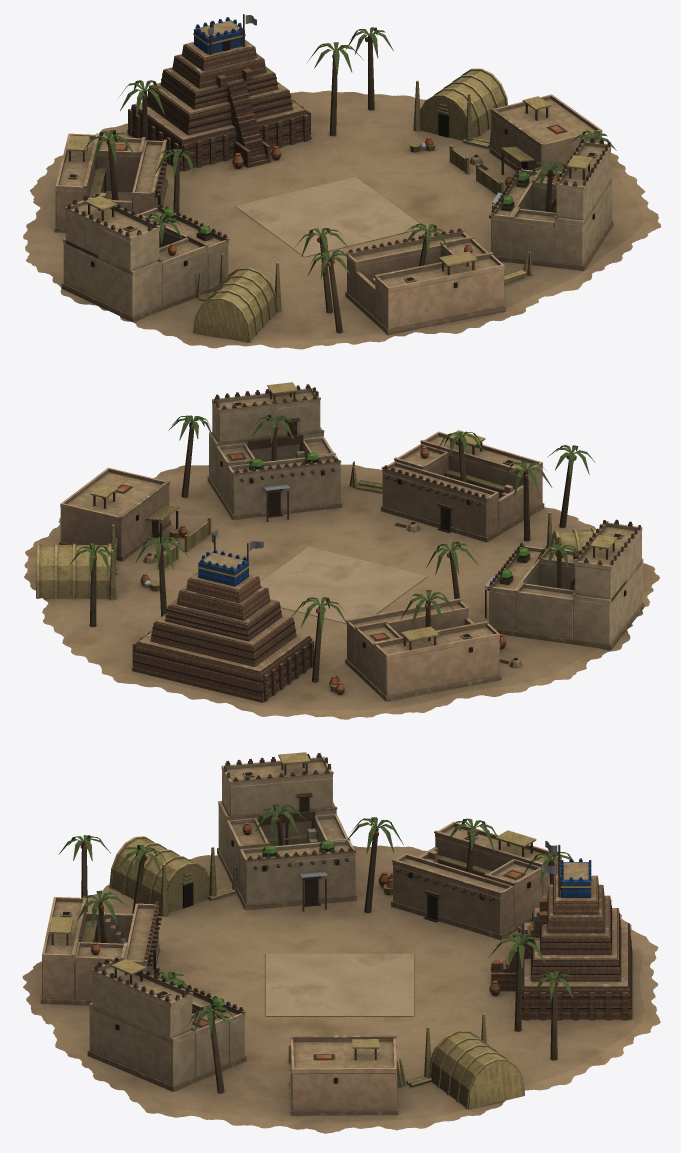
File: classical-town-small-a-mesopotamia.glb
3 views of the same model, one above another, from view 1: azimuth 30°, elevation 25°; view 2: azimuth 150°, elevation 25°; view 3: azimuth 270°, elevation 25° (orthographic). The views are drawn at different scales.
Parts seen in each view (by area): view 1: LOD0; view 2: LOD0; view 3: LOD0.
Part boxes in pixels (box(x1,y1,x2,y2)): LOD0: box(23, 14, 660, 349); LOD0: box(24, 382, 659, 719); LOD0: box(22, 752, 660, 1133).
Size of what is drawn, in the model's own units: 3.98 by 0.8544 by 3.71.
3 materials, 3 textured.
